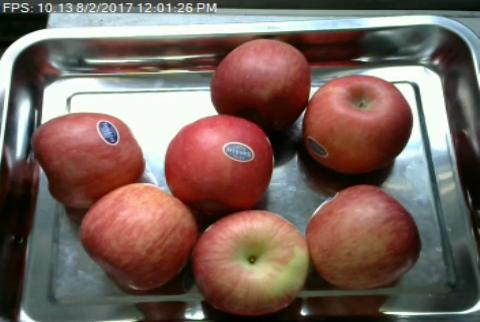apple: (191, 209, 312, 316), (305, 184, 422, 291), (79, 182, 194, 290), (31, 111, 145, 209), (302, 75, 412, 174), (164, 114, 273, 211), (210, 38, 309, 129)
